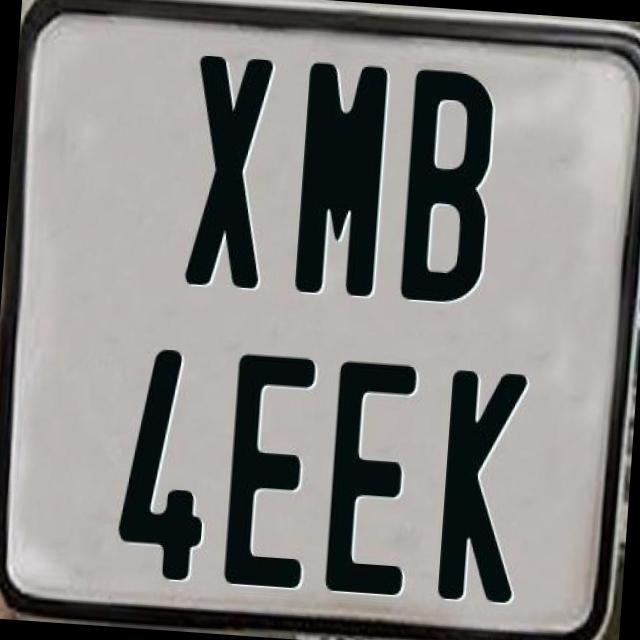4: (112, 342, 216, 578)
B: (395, 64, 494, 304)
E: (222, 348, 324, 584), (320, 360, 418, 597)
K: (432, 366, 530, 600)
M: (293, 59, 392, 298)
X: (180, 53, 272, 287)
